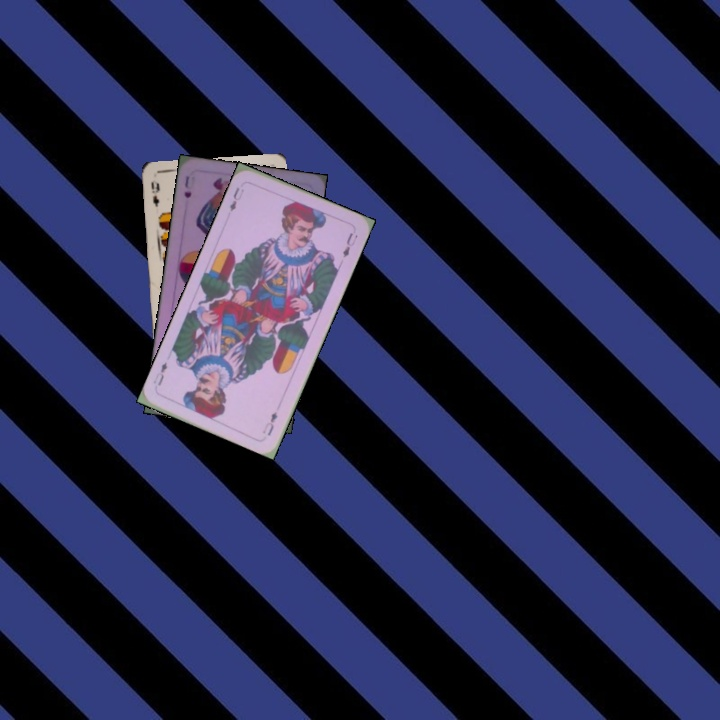E9: (147, 178, 162, 209)
EU: (225, 183, 247, 214), (258, 407, 280, 438)
SU: (180, 172, 194, 201)
